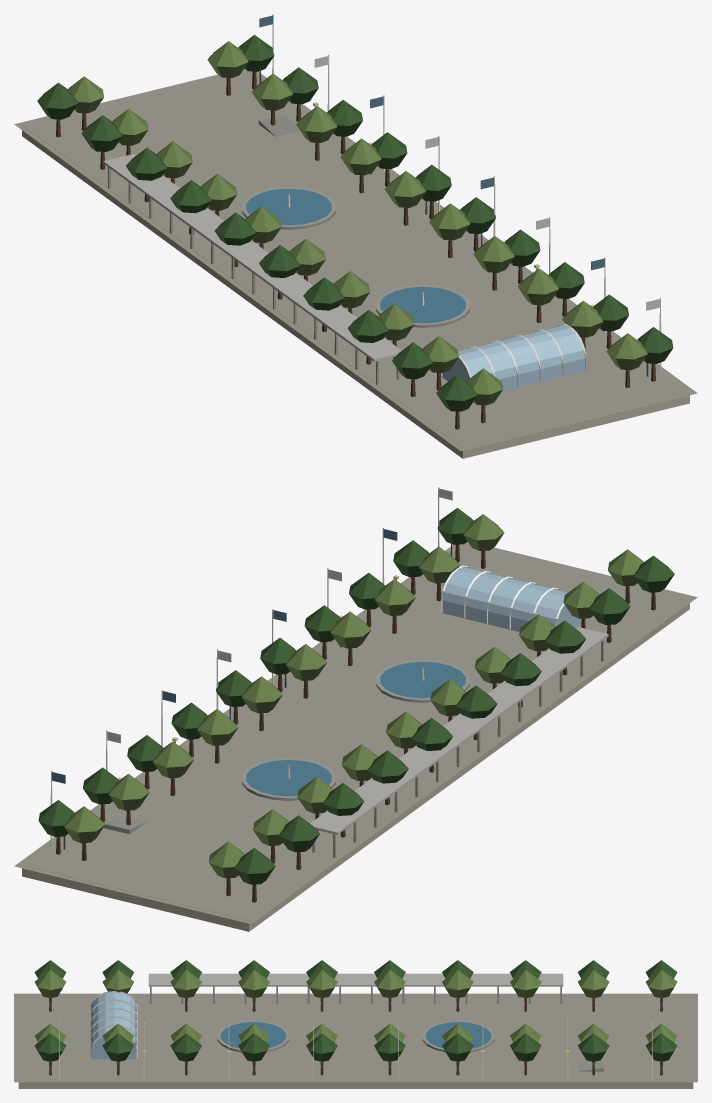
Rendered from desktop.glb.
The picture shows the model from 3 angles, top to bottom: view 1: azimuth 30°, elevation 25°; view 2: azimuth 150°, elevation 25°; view 3: azimuth 270°, elevation 25°; orthographic projection. The views are drawn at different scales.
Parts seen in each view (by area): view 1: lm.un-plaza; view 2: lm.un-plaza; view 3: lm.un-plaza.
Part boxes in pixels (x1,y1,x2,y2): lm.un-plaza: [14, 14, 697, 458]; lm.un-plaza: [14, 487, 697, 931]; lm.un-plaza: [14, 960, 697, 1088].
Size of the model in its own units: 46 by 16.08 by 150.
